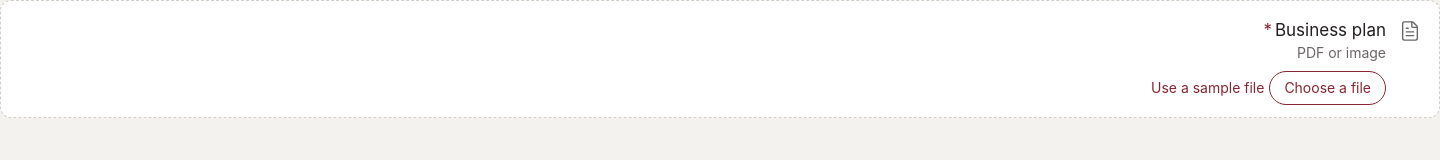
Scenario: FilePick › checks a chosen document and then shows it as verified
The image size is (1440, 160).
Later steps or results of the test are not shown.
Click the button "Use a sample file" at (1208, 88), box [1150,71,1265,105]
Wait 1200 ms
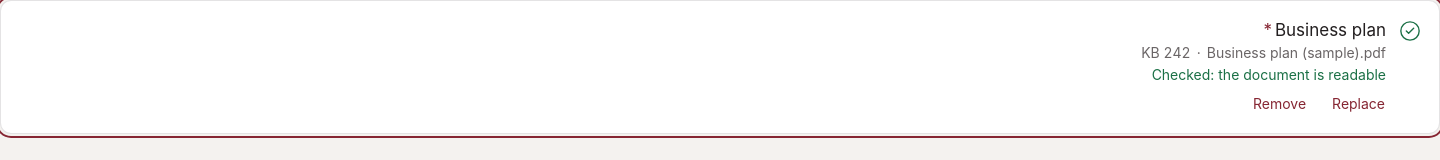
Expected: the text "Checked: the document is readable" is shown, [1152,65,1386,85]
Expected: the text "Business plan (sample).pdf" is shown, [1207,43,1386,63]
Expected: the text "KB" is shown, [1141,44,1191,61]
